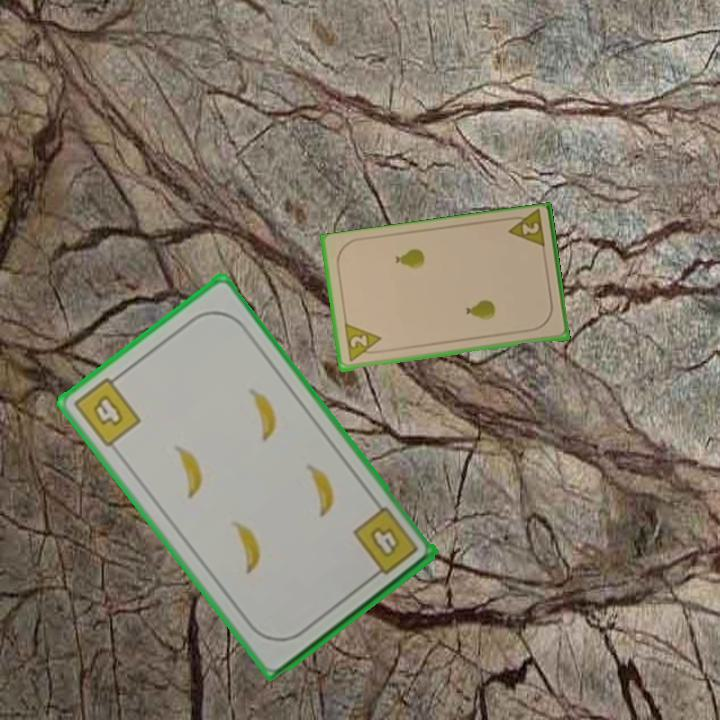2p: (503, 208, 548, 253), (341, 322, 385, 365)
4b: (69, 369, 144, 450), (349, 503, 422, 583)
